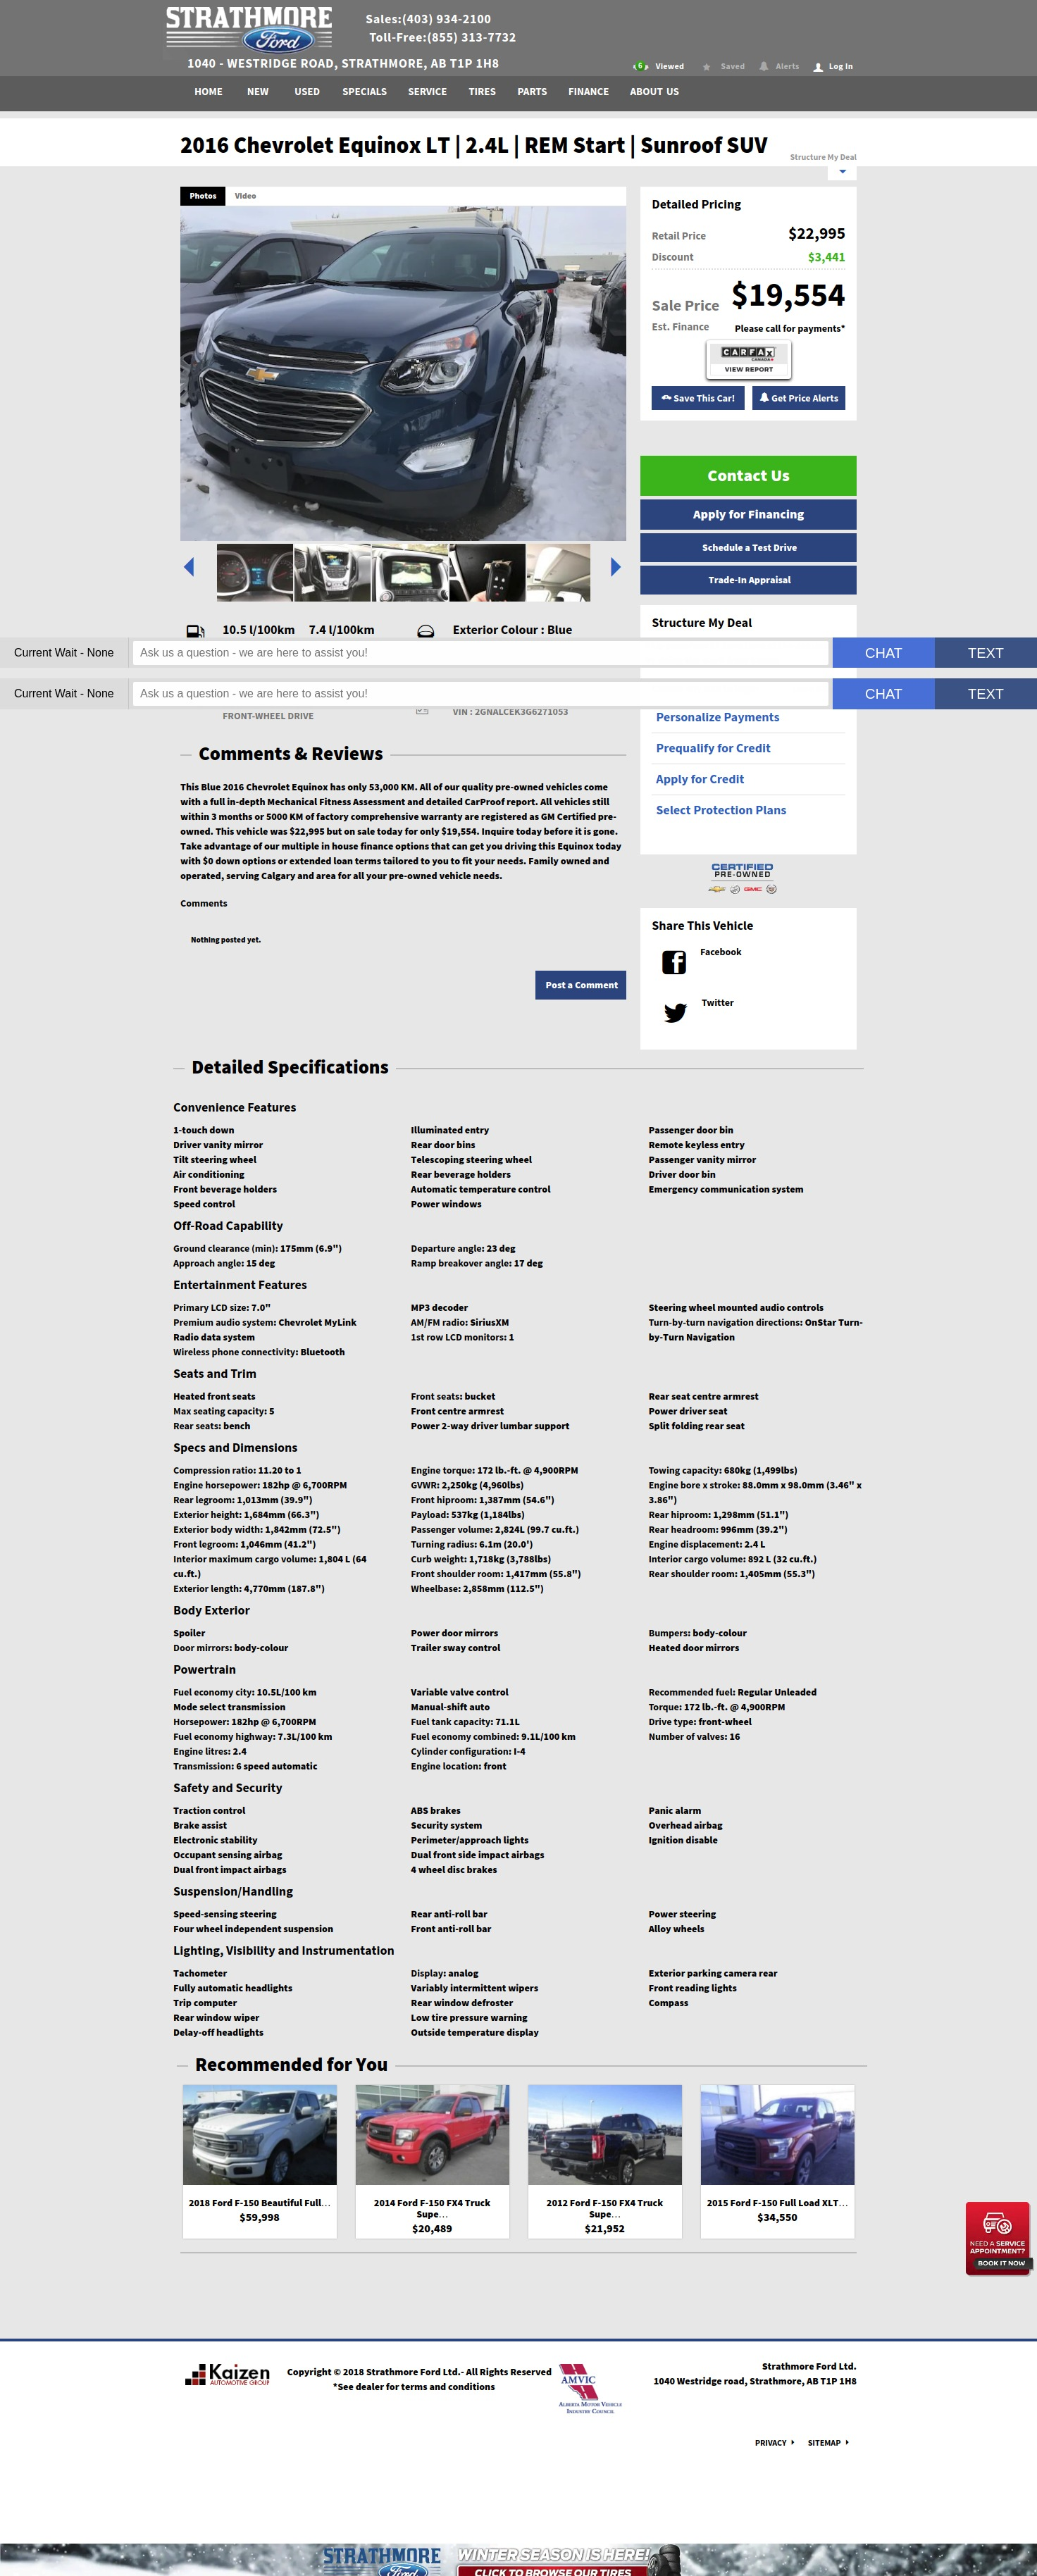car: (611, 557, 623, 578)
